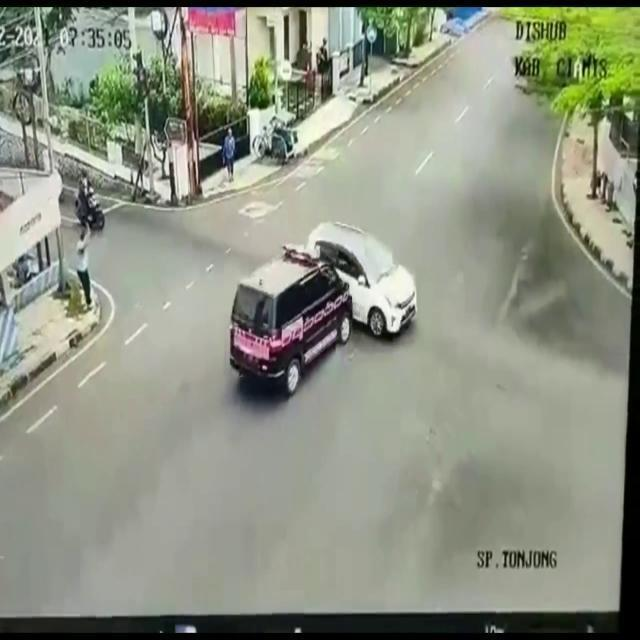accident: (230, 220, 420, 398)
